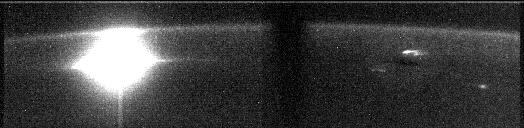negative: (96, 27, 147, 39)
